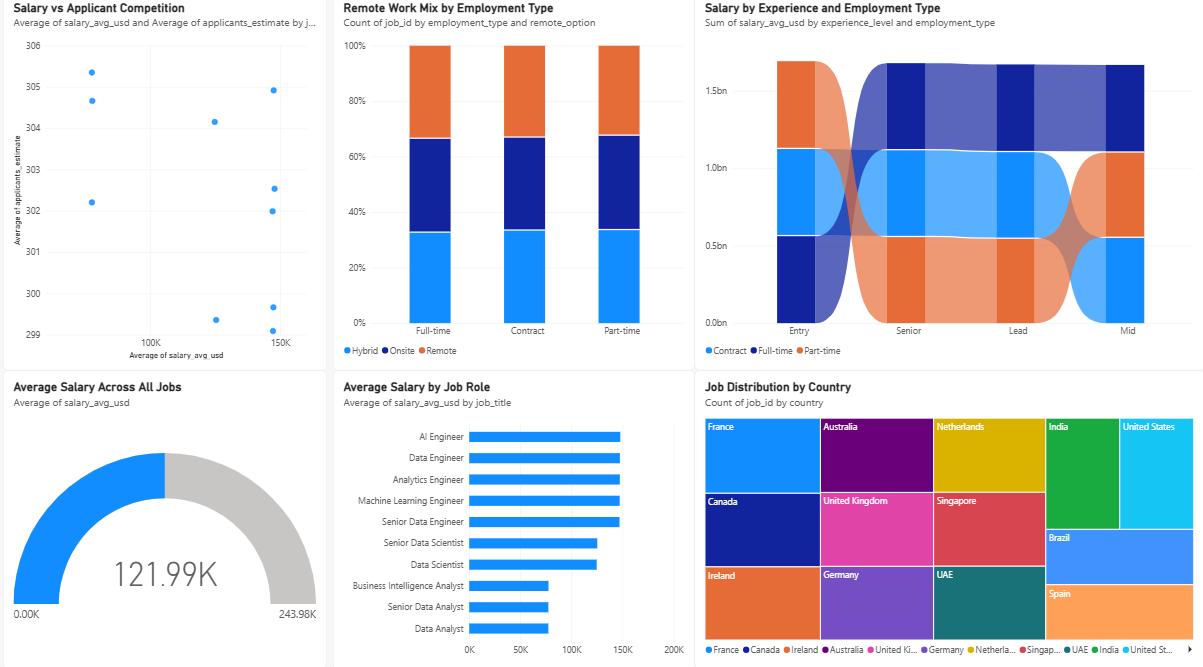

This screenshot's page, from the dashboard's own definition file:
{"tool":"powerbi","page":{"name":"Page 4","canvas":[1920,1080],"ordinal":3},"visuals":[{"type":"scatterChart","title":"Salary vs Applicant Competition","fields":{"Category":["job_postings_analysis.job_title"],"X":["Avg(job_postings_analysis.salary_avg_usd)"],"Y":["Avg(job_postings_analysis.applicants_estimate)"]},"box":[9.5,0,515.4,603.6],"z":0},{"type":"hundredPercentStackedColumnChart","title":"Remote Work Mix by Employment Type","fields":{"Category":["job_postings_analysis.employment_type"],"Series":["job_postings_analysis.remote_option"],"Y":["CountNonNull(job_postings_analysis.job_id)"]},"box":[534.4,0,575,603.6],"z":1000},{"type":"clusteredBarChart","title":"Average Salary by Job Role","fields":{"Category":["job_postings_analysis.job_title"],"Y":["Avg(job_postings_analysis.salary_avg_usd)"]},"box":[534.4,603.6,575,477.2],"z":2000},{"type":"ribbonChart","title":"Salary by Experience and Employment Type","fields":{"Category":["job_postings_analysis.experience_level"],"Series":["job_postings_analysis.employment_type"],"Y":["Sum(job_postings_analysis.salary_avg_usd)"]},"box":[1109.5,0,811.2,603.6],"z":3000},{"type":"treemap","title":"Job Distribution by Country","fields":{"Group":["job_postings_analysis.country"],"Values":["CountNonNull(job_postings_analysis.job_id)"]},"box":[1109,604,811,476],"z":4000},{"type":"gauge","title":"Average Salary Across All Jobs","fields":{"Y":["Avg(job_postings_analysis.salary_avg_usd)"]},"box":[10,604,515,476],"z":4001}]}

Visuals, with their boxes in screenshot pixels (x1, y1, x2, y2), scaled from the page's 1920x1080 canvas onto the 1203x667 screenshot:
"Salary vs Applicant Competition" scatterChart: 6 0 329 373
"Remote Work Mix by Employment Type" hundredPercentStackedColumnChart: 335 0 695 373
"Average Salary by Job Role" clusteredBarChart: 335 373 695 666
"Salary by Experience and Employment Type" ribbonChart: 695 0 1202 373
"Job Distribution by Country" treemap: 695 373 1202 666
"Average Salary Across All Jobs" gauge: 6 373 329 666
